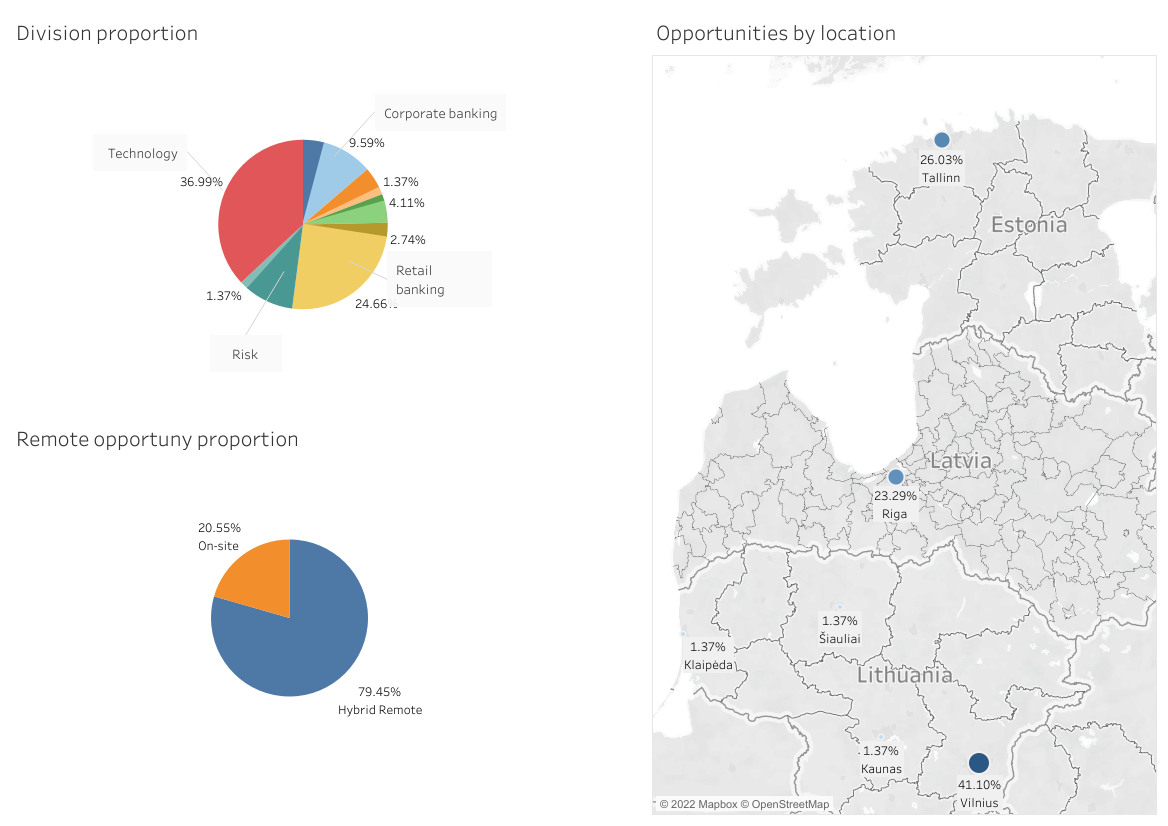

Layout of this report page (visuals, bound fields, positions):
{"tool":"tableau","page":{"name":"luminor-jobs-dashboard","canvas":[1169,827],"ordinal":0},"visuals":[{"type":"worksheet","title":"divisions","mark":"Pie","box":[8,8,640,405.5]},{"type":"worksheet","title":"opp-by-loc","mark":"Automatic","box":[648,8,513,811]},{"type":"worksheet","title":"environment","mark":"Pie","box":[8,413.5,640,405.5]}]}

Visuals, with their boxes in screenshot pixels (x1, y1, x2, y2), scaled from the page's 1169x827 canvas onto the 1168x826 screenshot:
"divisions" worksheet (Pie marks): [8,8,647,413]
"opp-by-loc" worksheet: [647,8,1160,818]
"environment" worksheet (Pie marks): [8,413,647,818]
